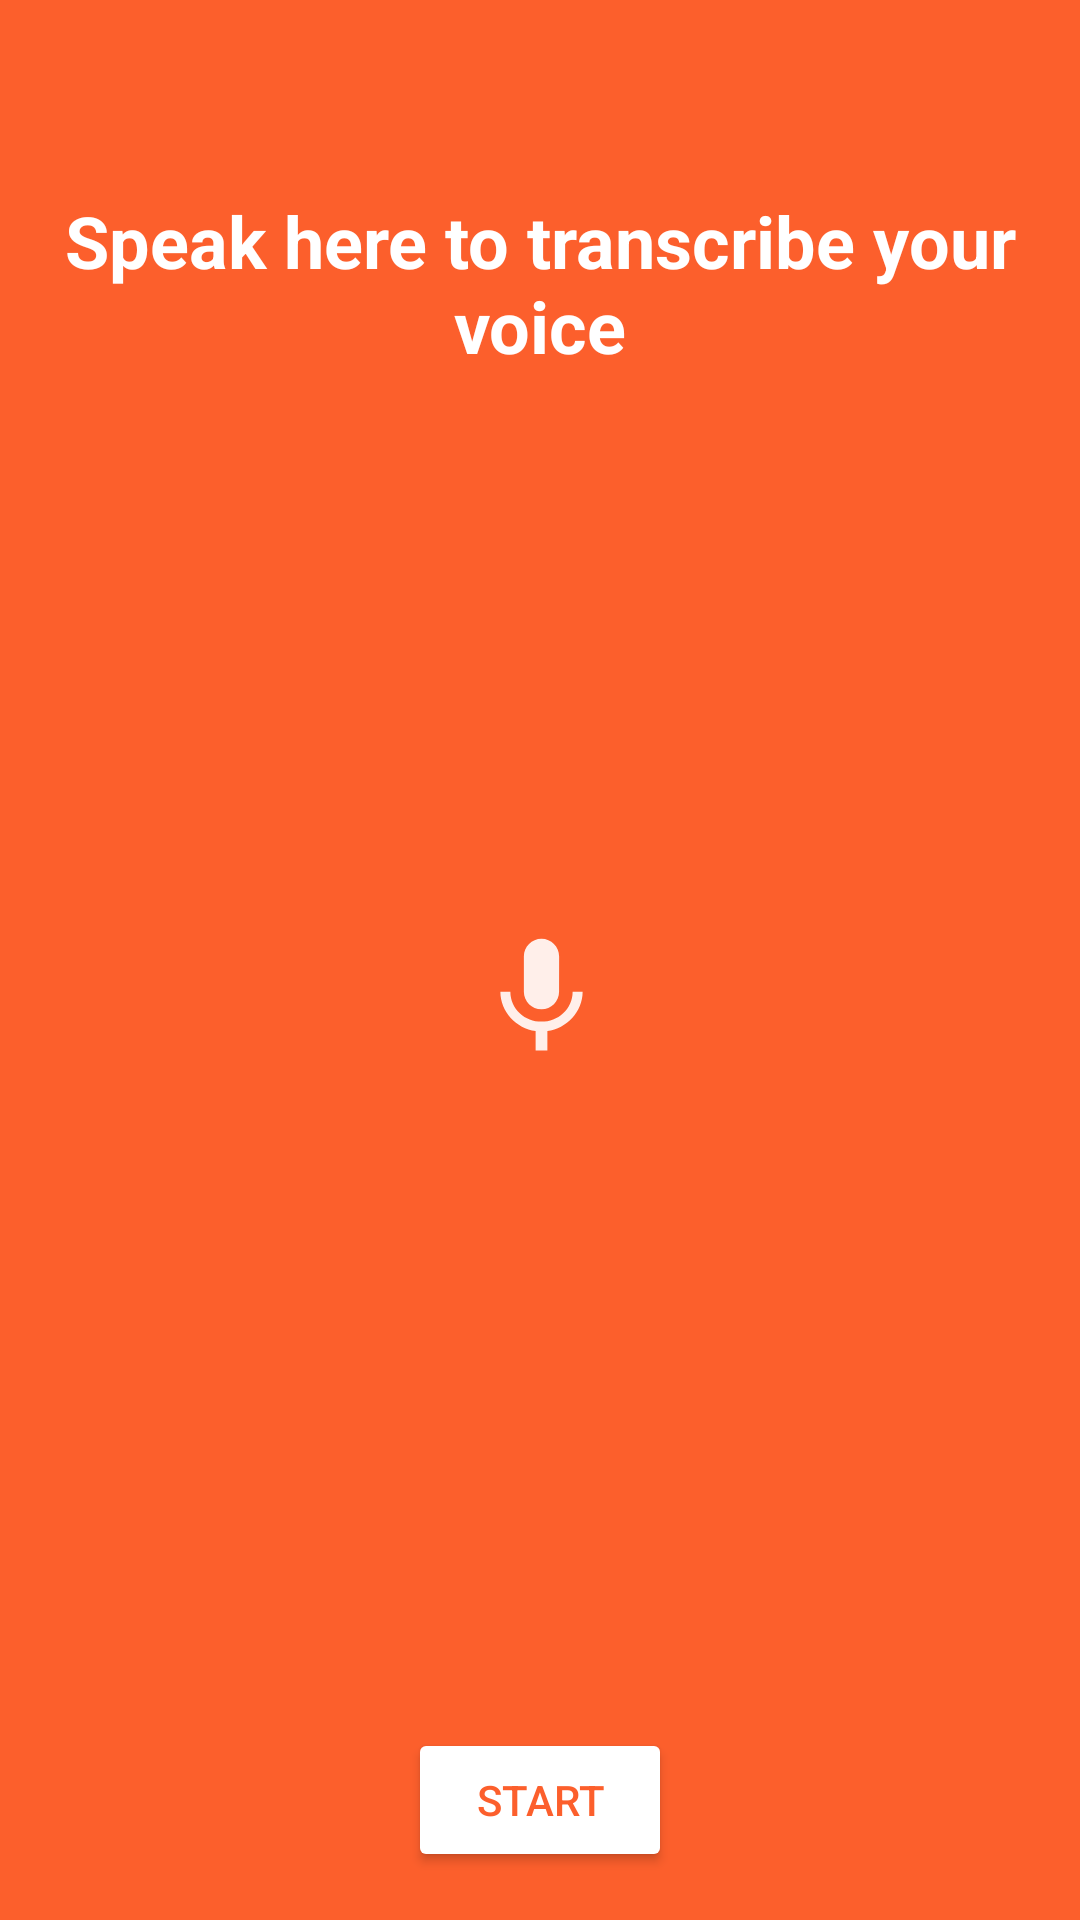

Named icons in this screenshot (1080px×1920px) and their bounding boxes, (x1, y1, x2, y2):
mic: (500, 938, 583, 1051)
